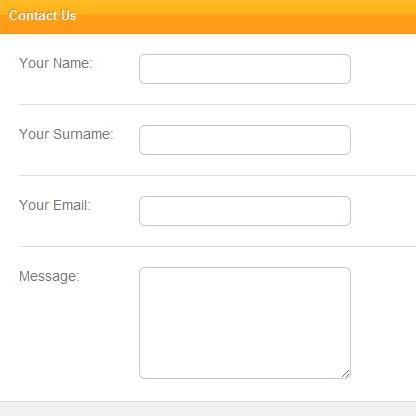field: (138, 268, 354, 381), (138, 53, 352, 86), (137, 123, 351, 156), (138, 194, 351, 227)
field_with_label: (19, 266, 356, 383), (20, 121, 354, 158), (20, 51, 355, 87), (19, 193, 352, 228)
